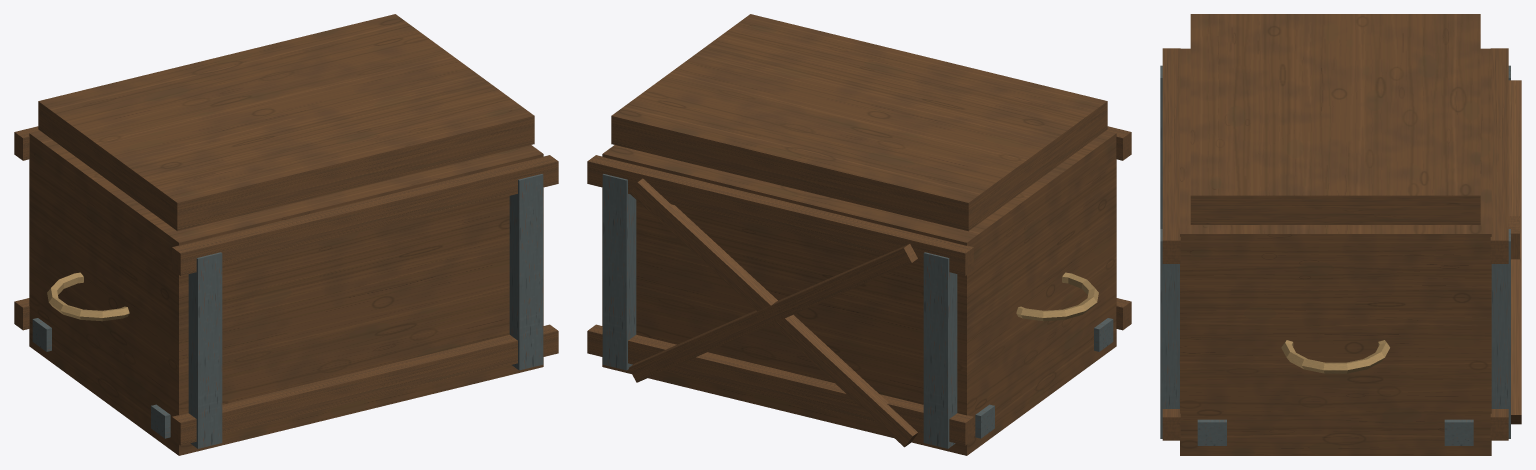
The model's file is pr-020_shared_carry_heavy_box__idle.obj.
3 renders of one model, left to right at view 1: azimuth 30°, elevation 25°; view 2: azimuth 150°, elevation 25°; view 3: azimuth 270°, elevation 25°, orthographic. The views are drawn at different scales.
Parts seen in each view (by area): view 1: pr-020_shared_carry_heavy_box__idle; view 2: pr-020_shared_carry_heavy_box__idle; view 3: pr-020_shared_carry_heavy_box__idle.
Boxes of the visible parts, x1=… form: pr-020_shared_carry_heavy_box__idle: x1=14, y1=14, x2=558, y2=455; pr-020_shared_carry_heavy_box__idle: x1=587, y1=14, x2=1131, y2=455; pr-020_shared_carry_heavy_box__idle: x1=1160, y1=14, x2=1521, y2=455.
Bounding box in the file's own units: 1.72 × 0.8786 × 1.11.
Materials: 3 (3 with a texture image).
